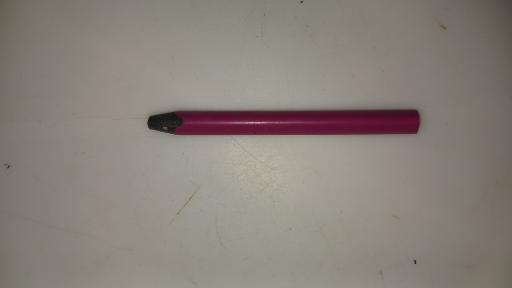Pencil: (148, 109, 421, 135)
